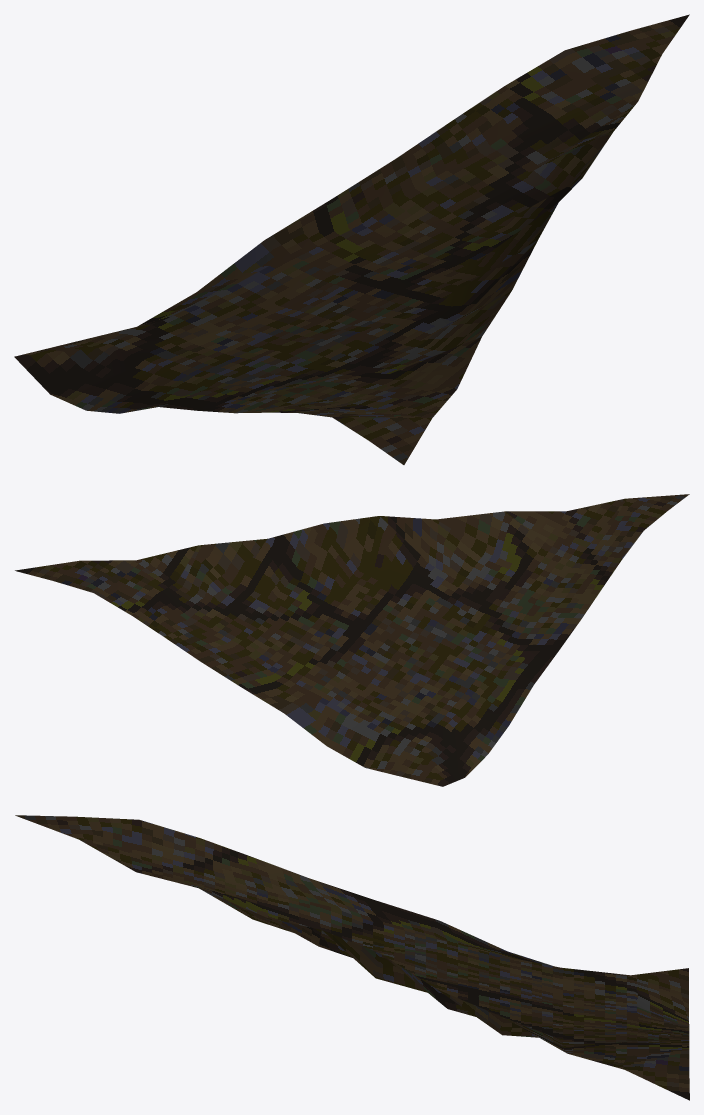
The model's file is SlopeInsideCorner.fbx.
3 views of the same model, one above another, from view 1: azimuth 30°, elevation 25°; view 2: azimuth 150°, elevation 25°; view 3: azimuth 270°, elevation 25° (orthographic). The views are drawn at different scales.
Parts seen in each view (by area): view 1: SlopeInsideCorner; view 2: SlopeInsideCorner; view 3: SlopeInsideCorner.
Boxes of the visible parts, left/top/right/bottom form: SlopeInsideCorner: left=14, top=14, right=689, bottom=464; SlopeInsideCorner: left=15, top=494, right=689, bottom=786; SlopeInsideCorner: left=15, top=815, right=689, bottom=1100.
Bounding box in the file's own units: 200 × 58.9 × 200.
1 material, 1 textured.
